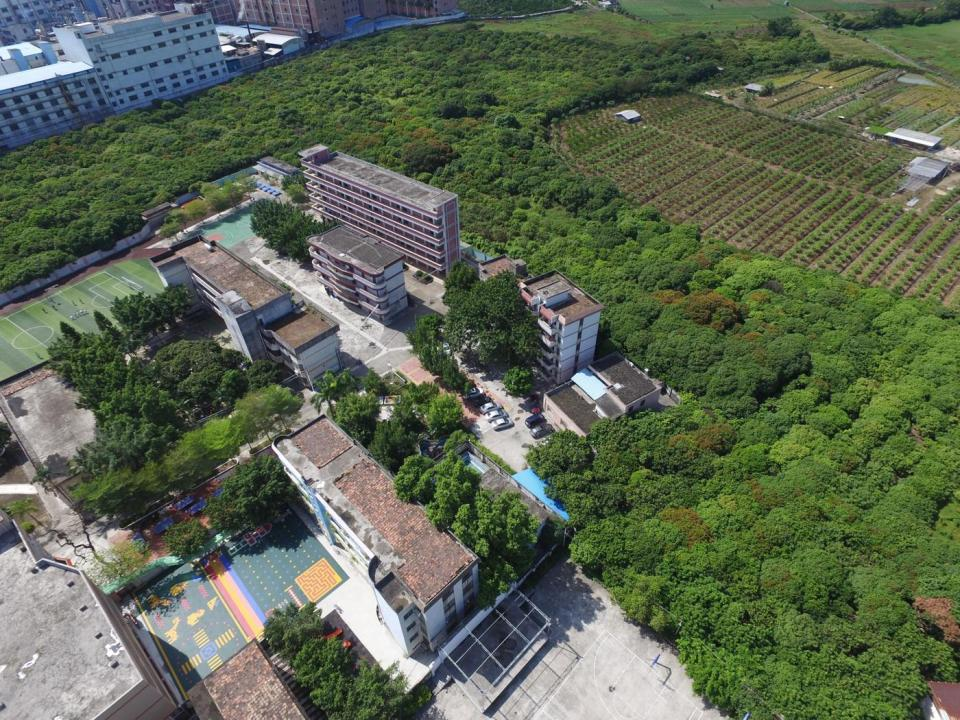car: (530, 423, 554, 438), (485, 408, 508, 422), (490, 418, 513, 431), (480, 401, 502, 414), (526, 413, 544, 428), (462, 387, 484, 399), (473, 396, 492, 407), (530, 394, 540, 413)
